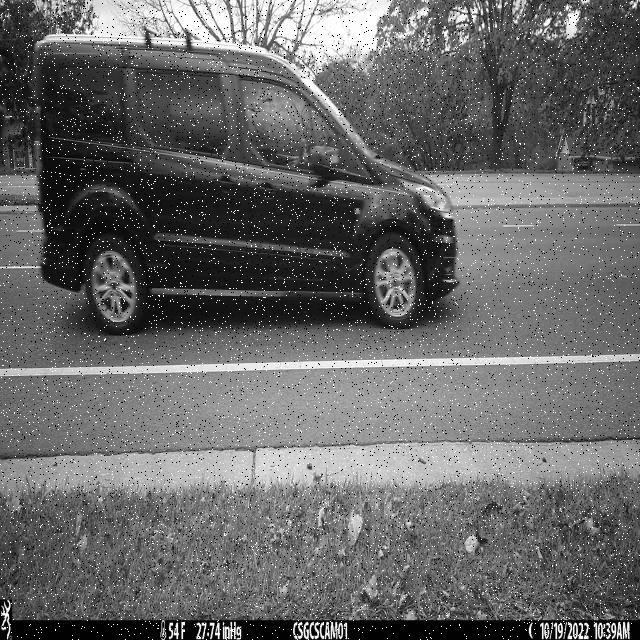Van: (30, 29, 460, 337)
